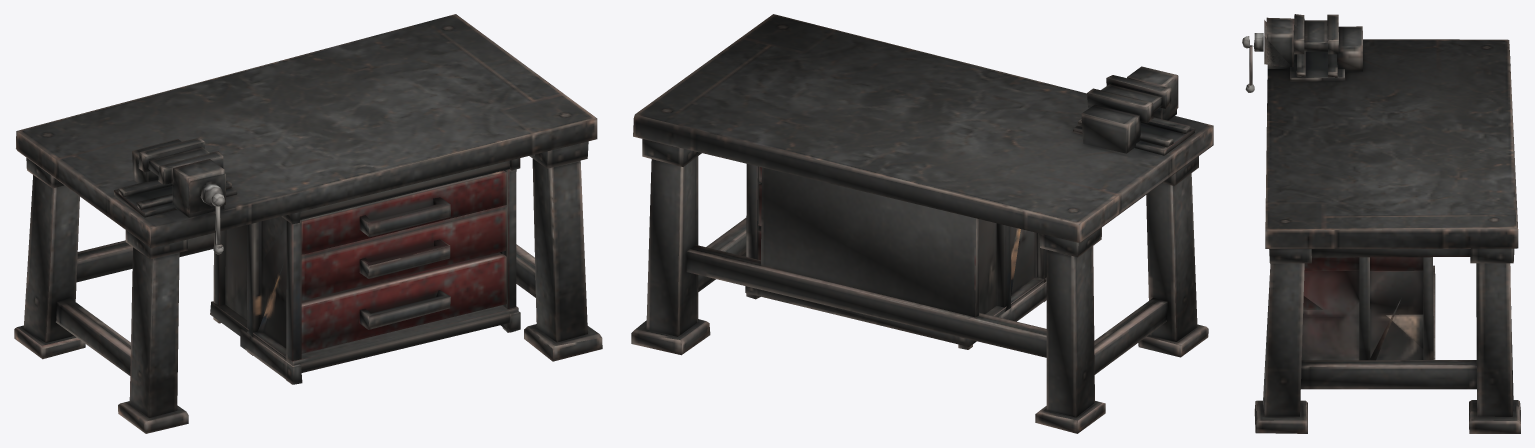
Rendered from workbench.glb.
3 renders of one model, left to right at view 1: azimuth 30°, elevation 25°; view 2: azimuth 150°, elevation 25°; view 3: azimuth 270°, elevation 25°, orthographic. The views are drawn at different scales.
Size of the model in its own units: 1 by 0.5723 by 0.6074.
1 material, 1 textured.
